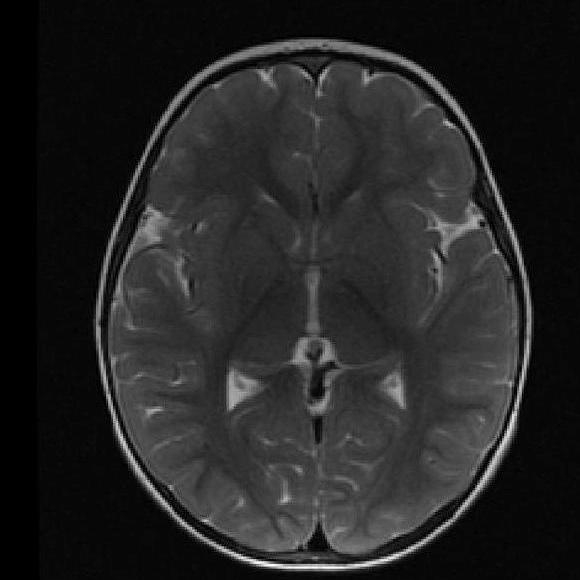Normal_Brain: (55, 1, 580, 580)
